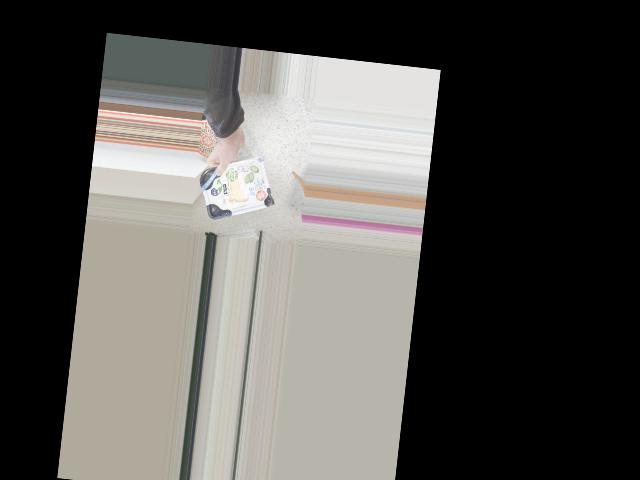cheese: (204, 159, 270, 216)
